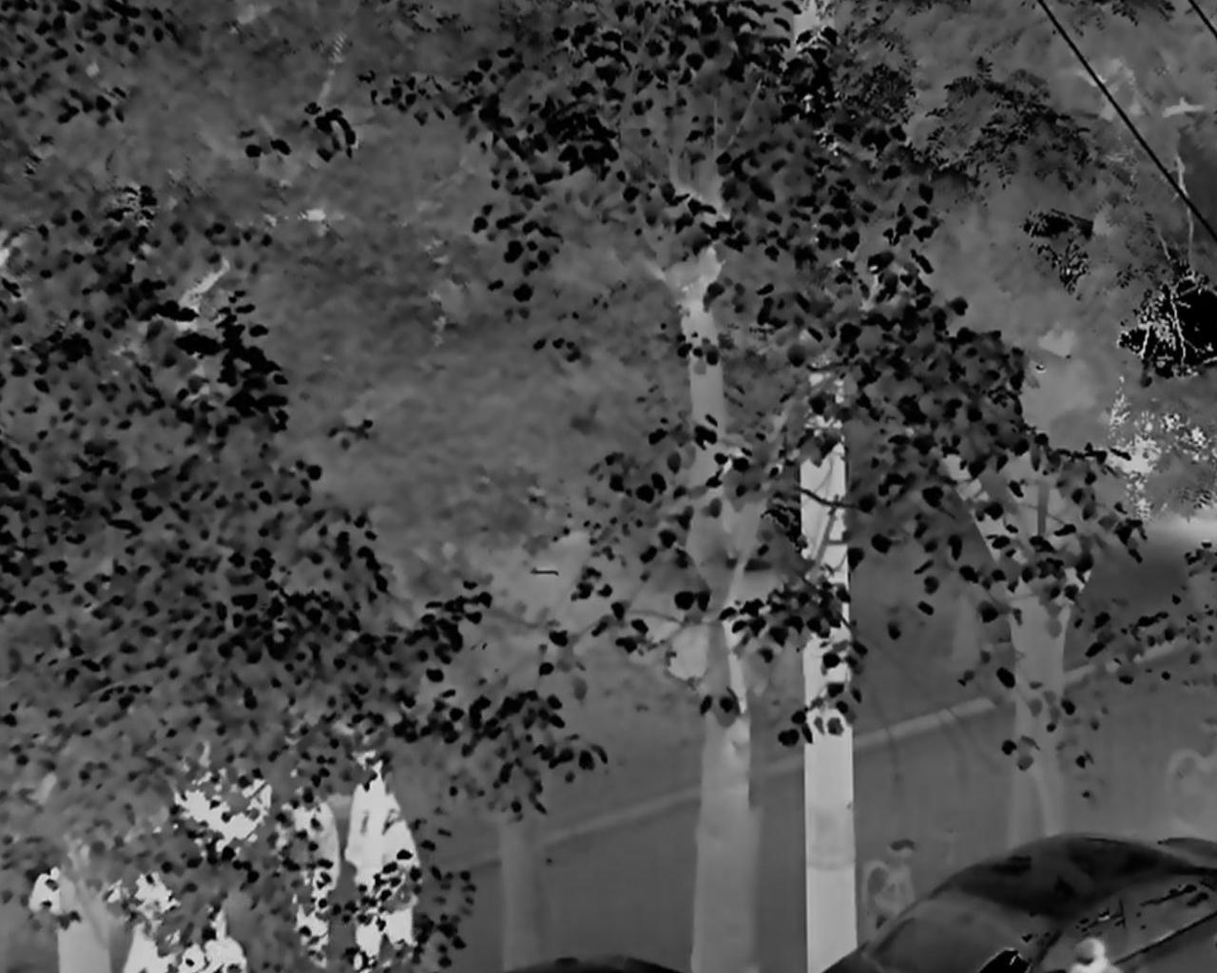person: (338, 746, 428, 970), (275, 756, 340, 973)
